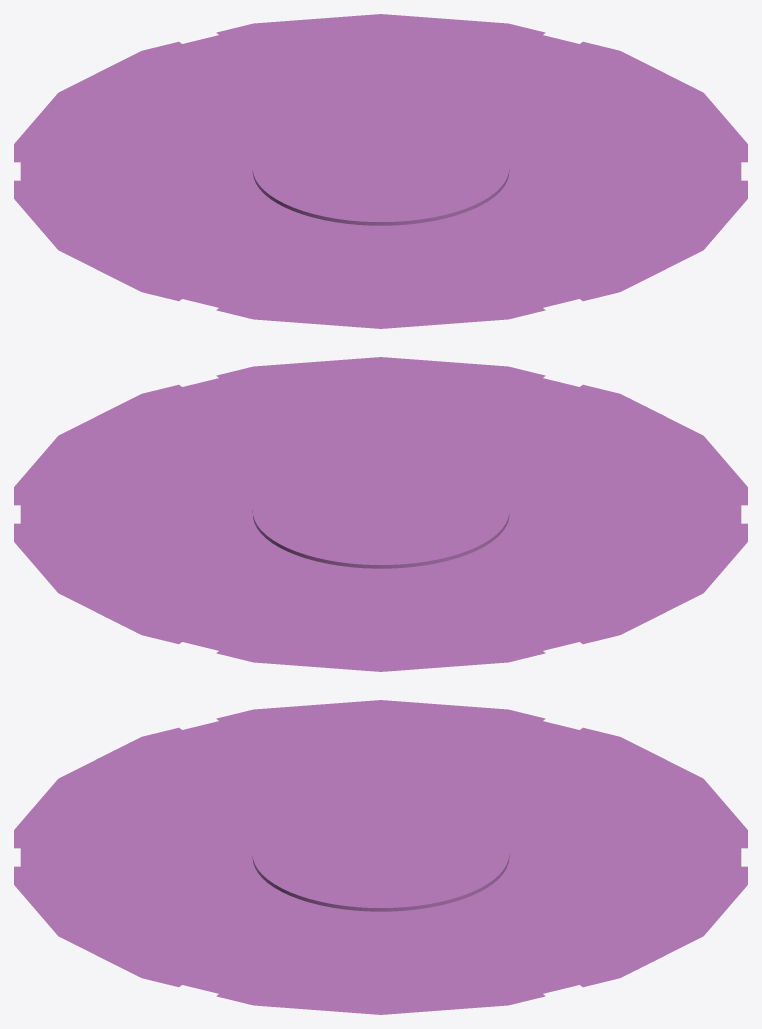
File: Starport Nav Mesh.FBX
3 views of the same model, one above another, from view 1: azimuth 30°, elevation 25°; view 2: azimuth 150°, elevation 25°; view 3: azimuth 270°, elevation 25° (orthographic).
Visible parts, largest first — view 1: StarportNavMesh; view 2: StarportNavMesh; view 3: StarportNavMesh.
Part boxes in pixels (x1,y1,x2,y2): StarportNavMesh: [14, 14, 747, 328]; StarportNavMesh: [14, 357, 747, 671]; StarportNavMesh: [14, 700, 747, 1014].
Bounding box in the file's own units: 94.07 × 0.5 × 92.64.
